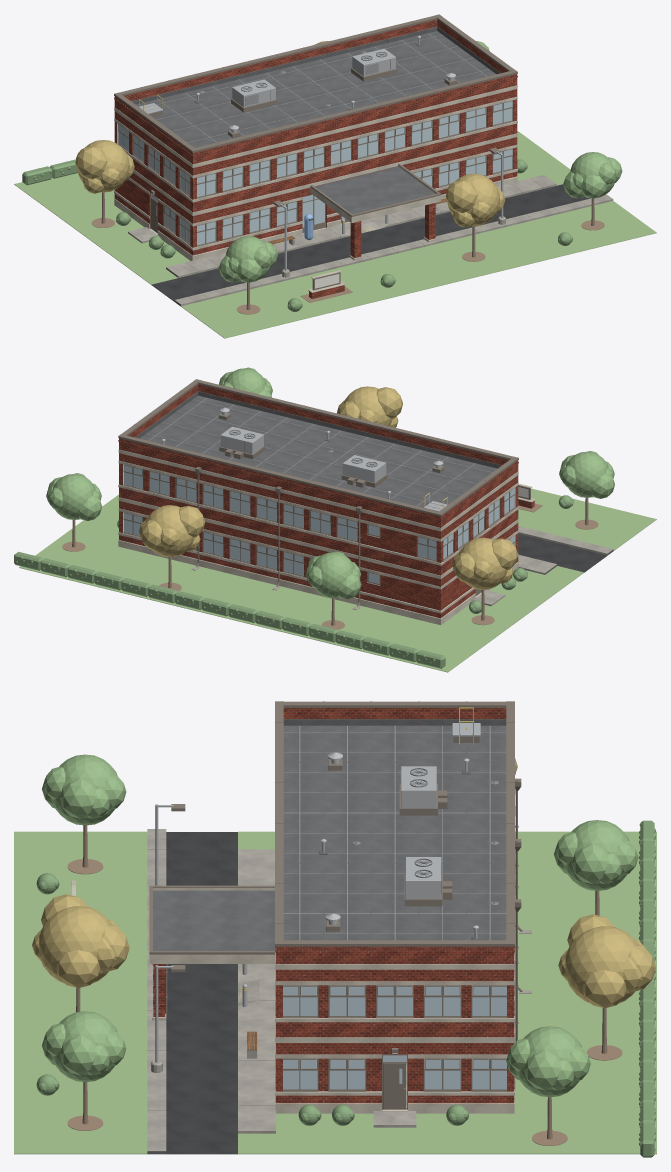
Rendered from building_assembled.glb.
3 views of the same model, one above another, from view 1: azimuth 30°, elevation 25°; view 2: azimuth 150°, elevation 25°; view 3: azimuth 270°, elevation 25° (orthographic). The views are drawn at different scales.
Visible parts, largest first — view 1: geometry_1307, geometry_1304, geometry_1305, geometry_1309, geometry_567, geometry_1302, geometry_1308, geometry_1342, geometry_1348, geometry_1345, geometry_1339, geometry_1310 (+21 smaller); view 2: geometry_1308, geometry_1307, geometry_1309, geometry_1348, geometry_1357, geometry_1339, geometry_1354, geometry_1351, geometry_1342, geometry_1304, geometry_1310, geometry_215 (+24 smaller); view 3: geometry_1307, geometry_1308, geometry_1304, geometry_1310, geometry_567, geometry_1302, geometry_1357, geometry_1342, geometry_1354, geometry_1345, geometry_1351, geometry_1339 (+91 smaller).
Part boxes in pixels (box(x1,y1,x2,y2)): geometry_1307: box(181, 201, 656, 338); geometry_1304: box(151, 184, 590, 301); geometry_1305: box(175, 194, 613, 305); geometry_1309: box(61, 205, 189, 275); geometry_567: box(315, 166, 434, 214); geometry_1302: box(166, 175, 556, 277); geometry_1308: box(14, 173, 114, 218); geometry_1342: box(445, 173, 504, 227); geometry_1348: box(75, 140, 134, 193); geometry_1345: box(563, 152, 622, 198); geometry_1339: box(219, 236, 277, 282); geometry_1310: box(517, 131, 570, 180); geometry_1308: box(19, 533, 494, 672); geometry_1307: box(518, 488, 656, 550); geometry_1309: box(441, 570, 571, 638); geometry_1348: box(452, 537, 518, 589); geometry_1357: box(139, 505, 205, 557); geometry_1339: box(559, 451, 614, 498); geometry_1354: box(305, 551, 361, 599); geometry_1351: box(46, 473, 102, 520); geometry_1342: box(337, 386, 402, 427); geometry_1304: box(518, 534, 606, 572); geometry_1310: box(66, 494, 118, 546); geometry_215: box(387, 518, 413, 568); geometry_1307: box(14, 831, 147, 1154); geometry_1308: box(514, 831, 656, 1154); geometry_1304: box(166, 832, 237, 1154); geometry_1310: box(276, 1113, 513, 1154); geometry_567: box(153, 890, 274, 950); geometry_1302: box(238, 849, 275, 1133); geometry_1357: box(558, 914, 655, 1008); geometry_1342: box(32, 894, 129, 988); geometry_1354: box(554, 820, 638, 890); geometry_1345: box(42, 1011, 126, 1081); geometry_1351: box(506, 1026, 590, 1097); geometry_1339: box(42, 754, 126, 825).
Bounding box in the file's own units: 32.69 × 8.18 × 27.
Materials: 32 (10 with a texture image).
